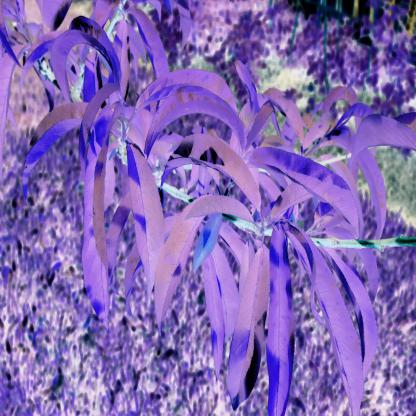Peach leaf: (293, 237, 362, 416), (80, 101, 123, 335), (250, 146, 358, 231), (227, 245, 272, 414), (143, 87, 246, 159), (162, 133, 260, 204), (327, 247, 376, 375), (154, 201, 202, 331), (125, 140, 164, 299), (265, 219, 296, 416), (23, 95, 81, 195), (348, 107, 416, 164), (203, 249, 224, 389), (135, 8, 167, 76)
